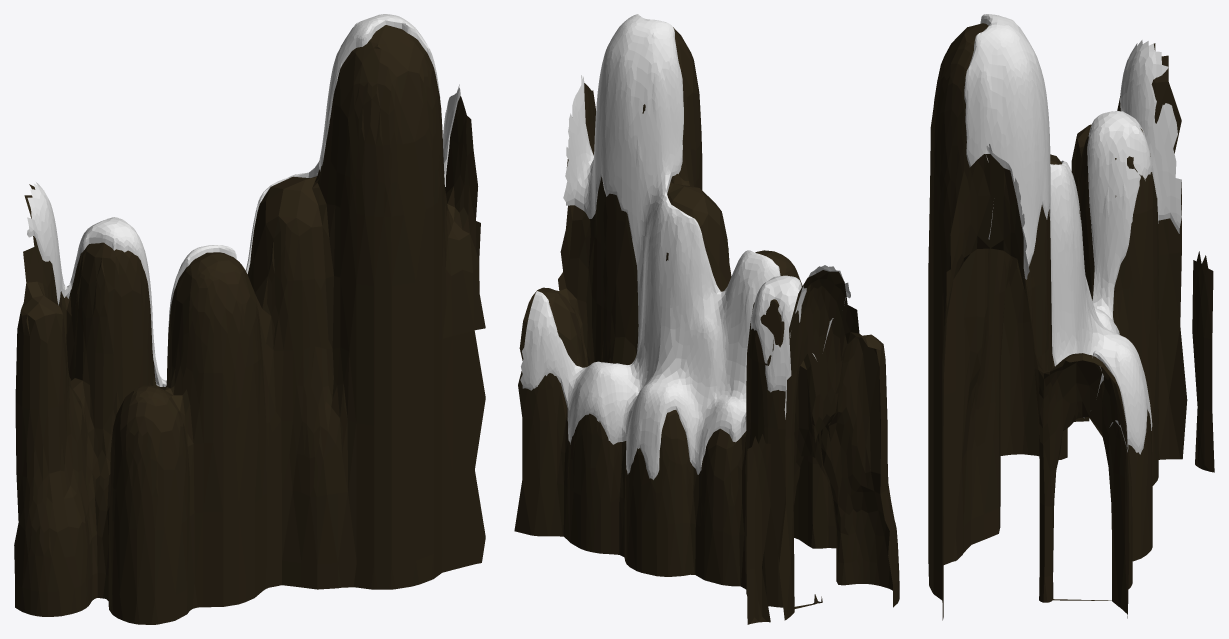
The model's file is Mtn_Wall_W0_M.fbx.
3 renders of one model, left to right at view 1: azimuth 30°, elevation 25°; view 2: azimuth 150°, elevation 25°; view 3: azimuth 270°, elevation 25°, orthographic. The views are drawn at different scales.
Visible parts, largest first — view 1: Mtn_Wall_W0_M; view 2: Mtn_Wall_W0_M; view 3: Mtn_Wall_W0_M.
Boxes of the visible parts, box(x1,y1,x2,y2) form: Mtn_Wall_W0_M: box(14, 14, 485, 624); Mtn_Wall_W0_M: box(514, 14, 899, 624); Mtn_Wall_W0_M: box(928, 14, 1214, 620).
Size of the model in its own units: 20092 by 25861 by 11934.
